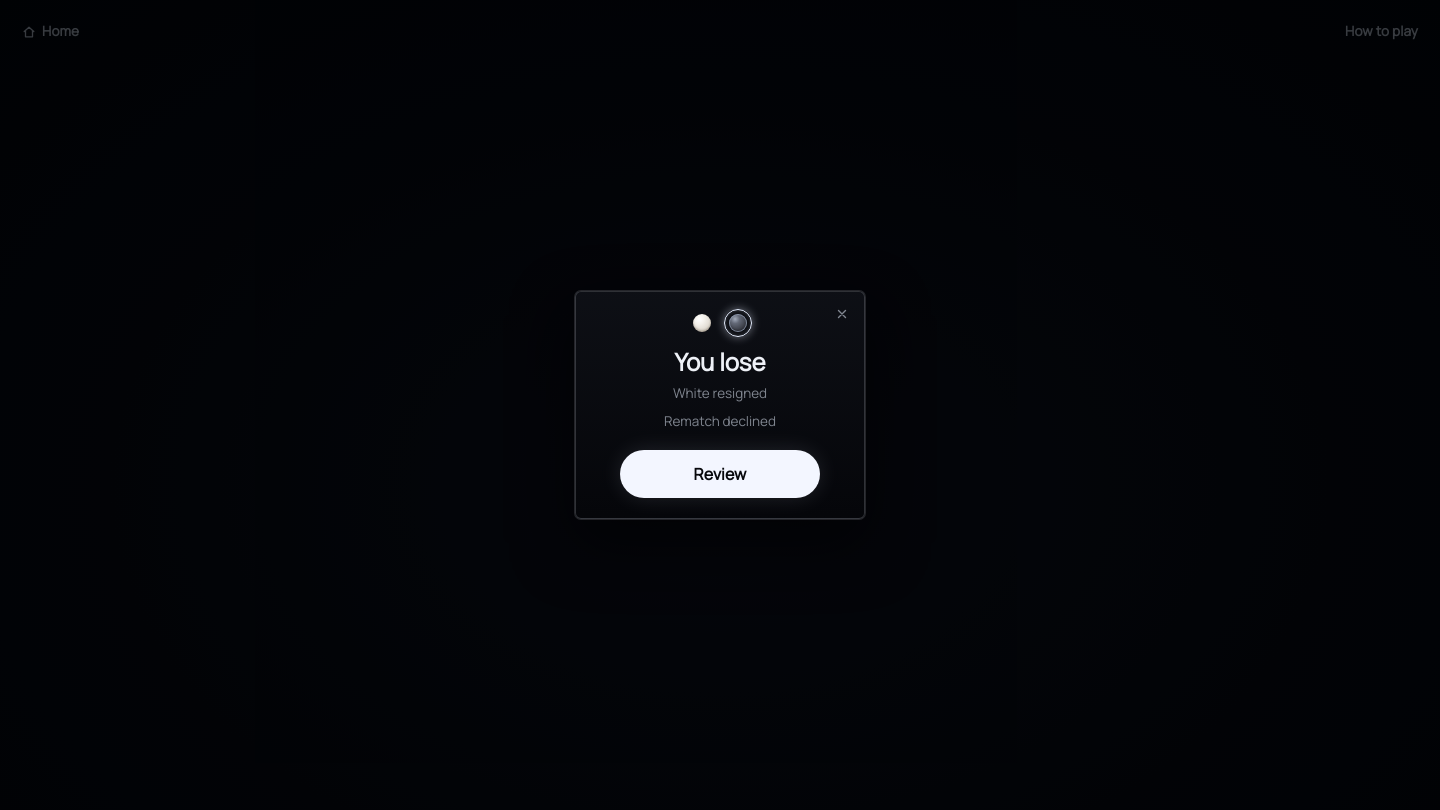
GameScreen: a rematch against a friend › turns to the review once its own offer is declined
Expected: the text with test id "rematch-declined" reads "Rematch declined", [664,412,776,430]
Step 1. Click the button with test id "rematch-go" → x=720, y=474, box [620,450,820,498]
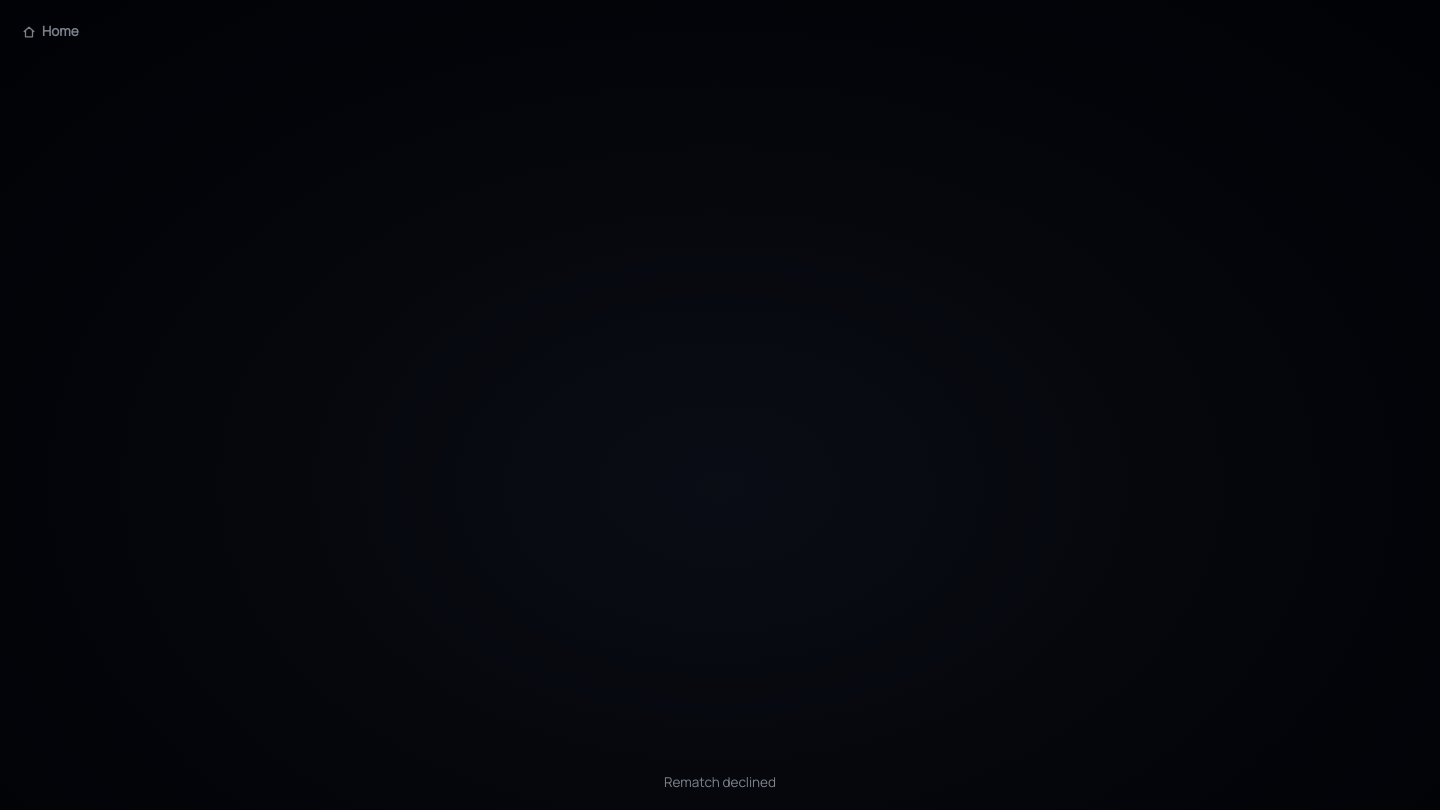
Result: the dialog is gone
